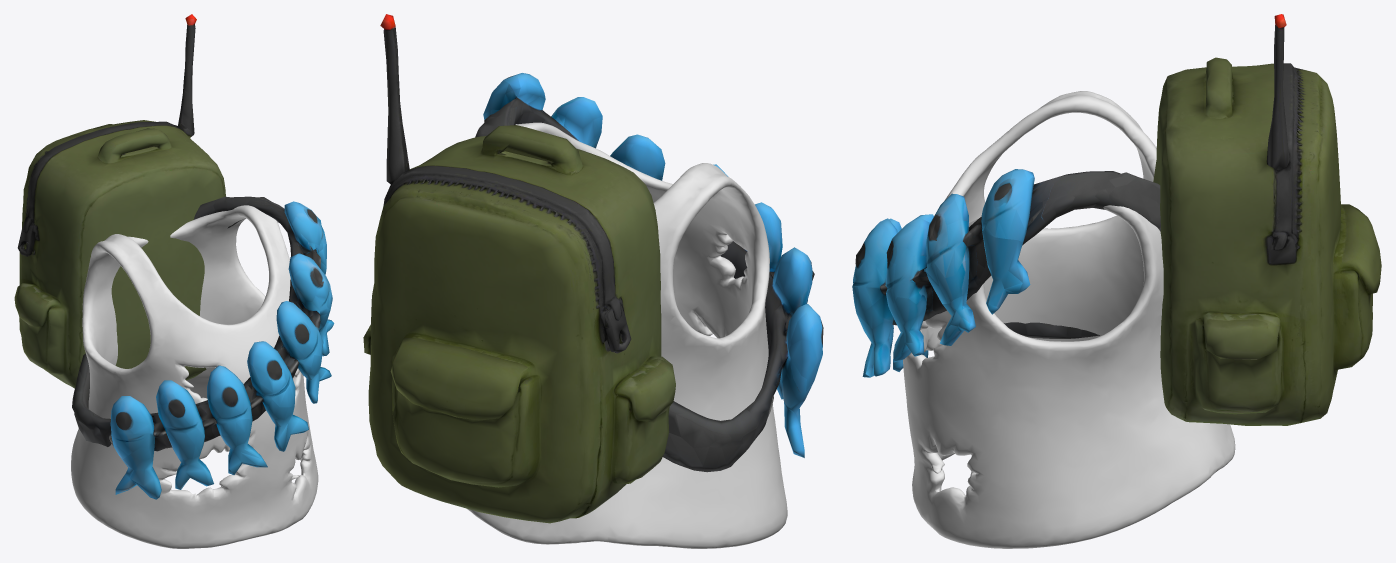
The model's file is Fishdolier.glb.
The picture shows the model from 3 angles, left to right: view 1: azimuth 30°, elevation 25°; view 2: azimuth 150°, elevation 25°; view 3: azimuth 270°, elevation 25°; orthographic projection. The views are drawn at different scales.
Parts seen in each view (by area): view 1: Fishdolier; view 2: Fishdolier; view 3: Fishdolier.
Part boxes in pixels (x1,y1,x2,y2): Fishdolier: [14, 14, 334, 548]; Fishdolier: [363, 14, 823, 548]; Fishdolier: [852, 14, 1381, 548].
Size of the model in its own units: 0.3611 by 0.6194 by 0.5557.
3 materials, 2 textured.
